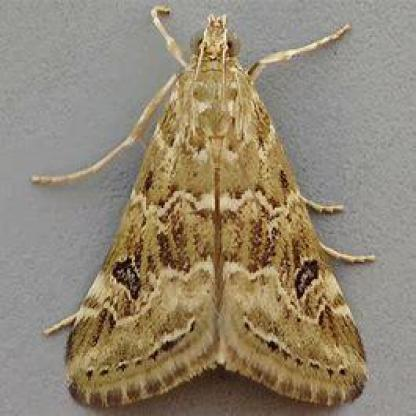Hellula undalis: (22, 3, 377, 412)
